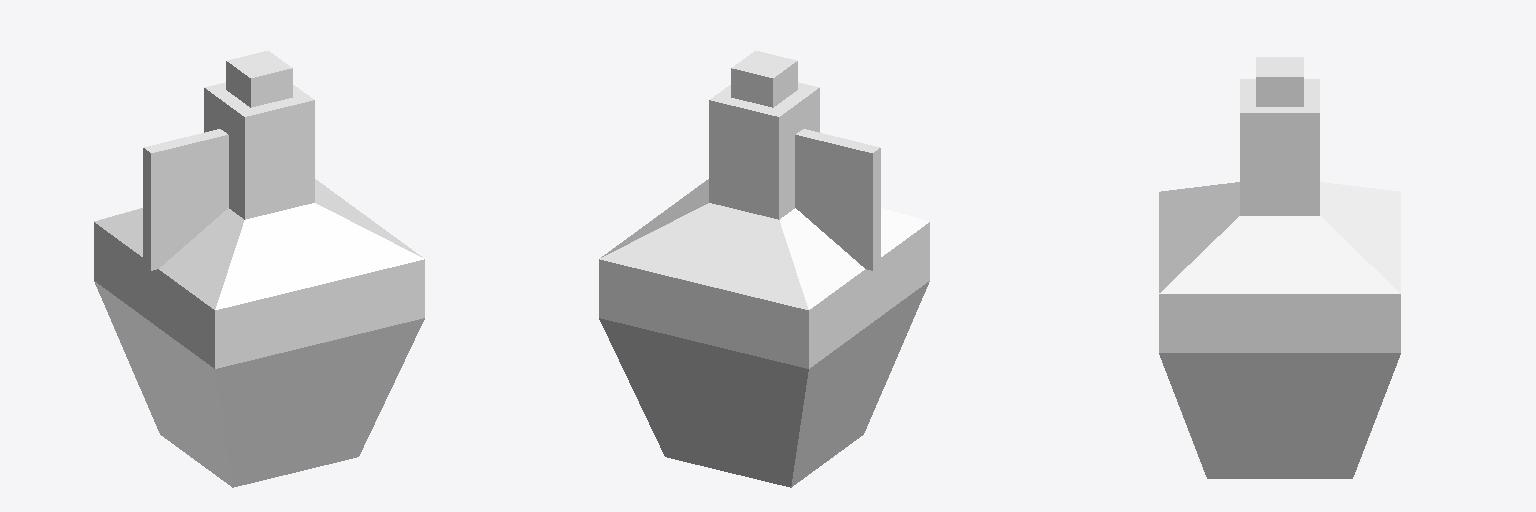
Rendered from clay_jug.obj.
The picture shows the model from 3 angles: view 1: azimuth 30°, elevation 25°; view 2: azimuth 150°, elevation 25°; view 3: azimuth 270°, elevation 25°; orthographic projection.
Visible parts, largest first — view 1: bottle, handle; view 2: bottle, handle; view 3: bottle.
Boxes of the visible parts, <box> form: bottle: <box>94,51,424,487</box>; handle: <box>143,129,228,270</box>; bottle: <box>599,51,929,487</box>; handle: <box>795,129,880,270</box>; bottle: <box>1159,57,1400,478</box>.
Bounding box in the file's own units: 0.4844 × 0.8125 × 0.4688.